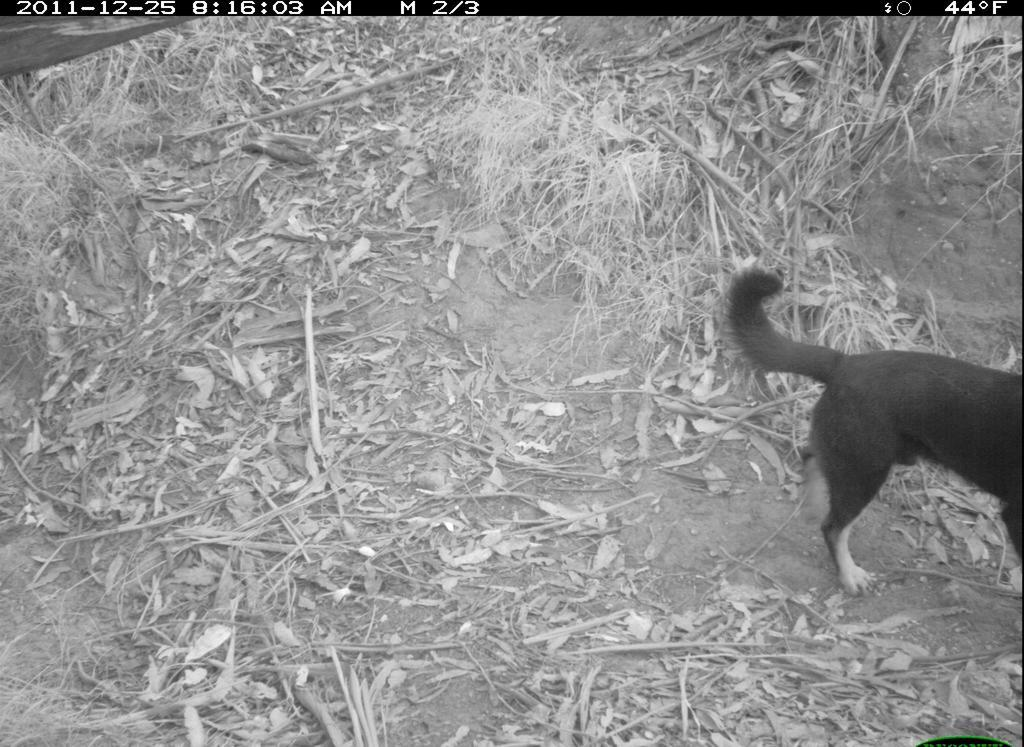dog: (689, 235, 1021, 635)
